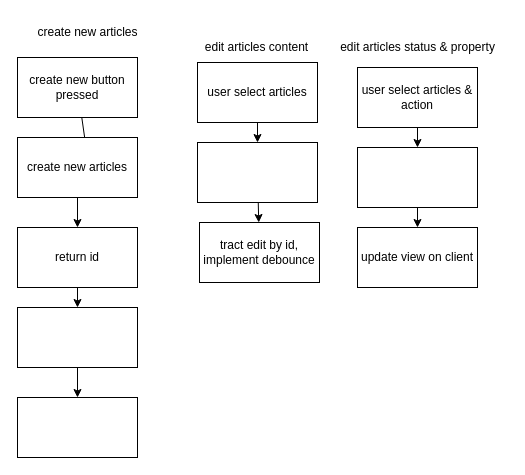
Some shapes in this 525 by 475 pixel diagram are drawn without their labels. Here are the shapes that lost their labels. From the top down, the centre of each, then its label:
At point (257, 172): "fetch articles content".
At point (417, 177): "edit based on action selected".
At point (77, 337): "open edit page with new id".
